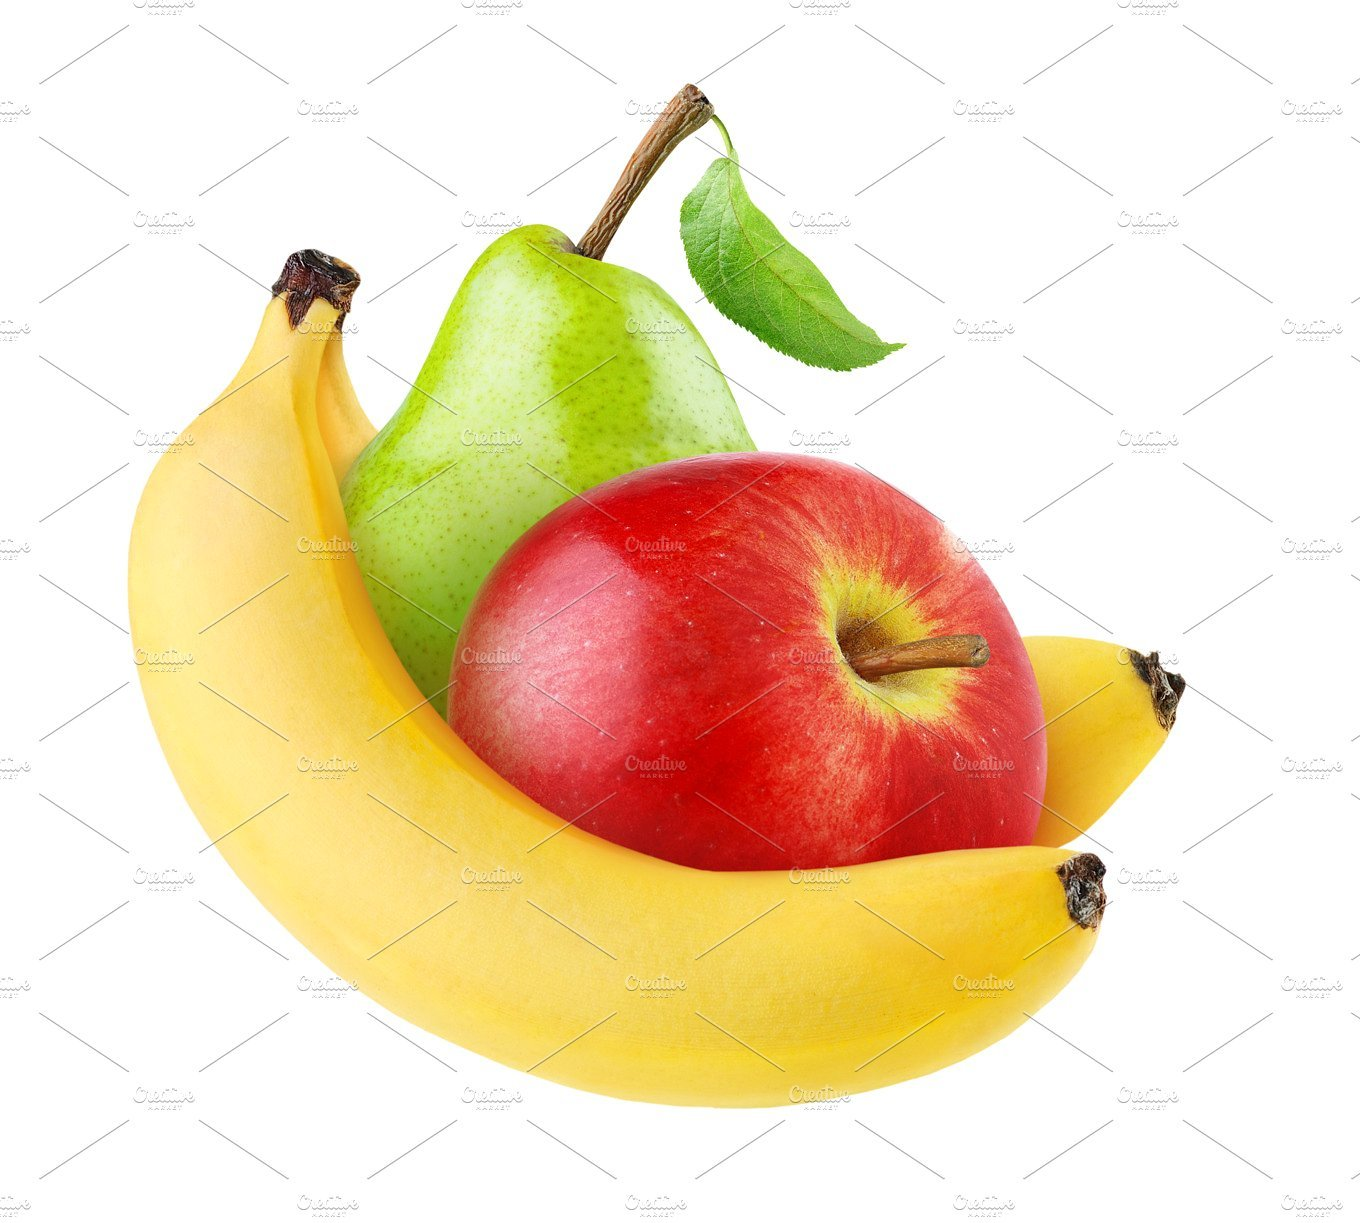apple: (445, 447, 1069, 1046)
banana: (132, 388, 1103, 1172)
